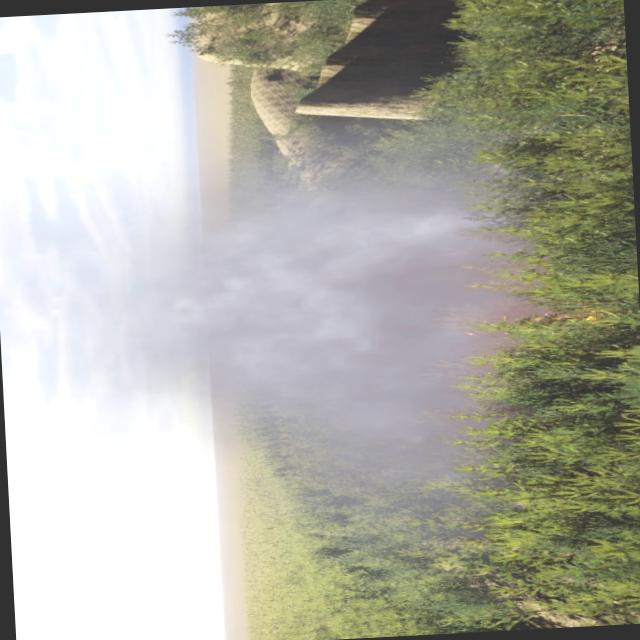smoke: (0, 143, 558, 579)
